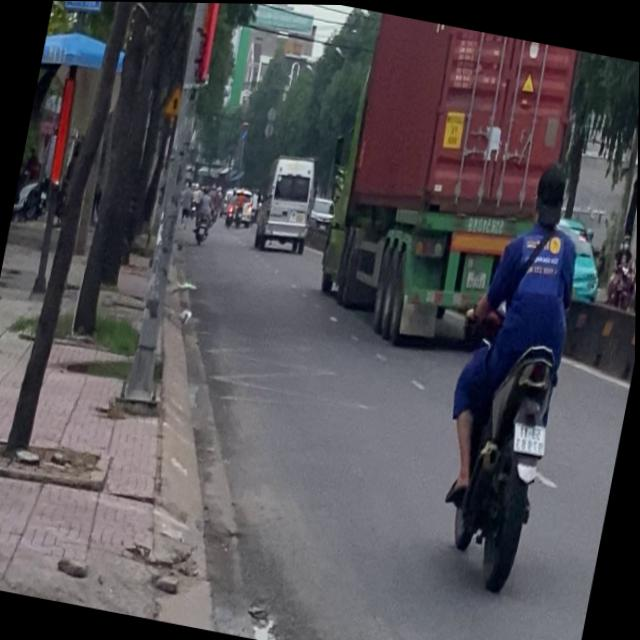licenseplate: (418, 144, 609, 595)
motorcyclist: (529, 156, 574, 229)
nohelmet: (511, 419, 549, 452)
